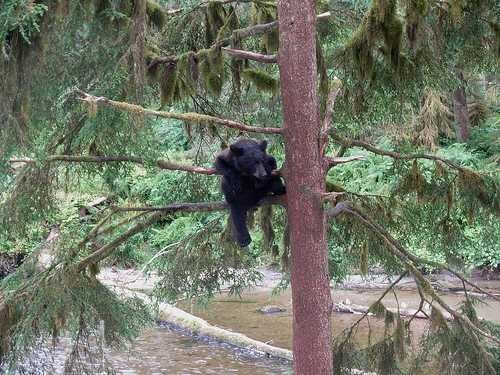bear: (224, 135, 283, 185)
